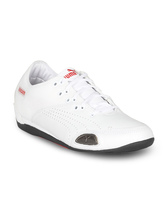shoes: (9, 59, 158, 157)
